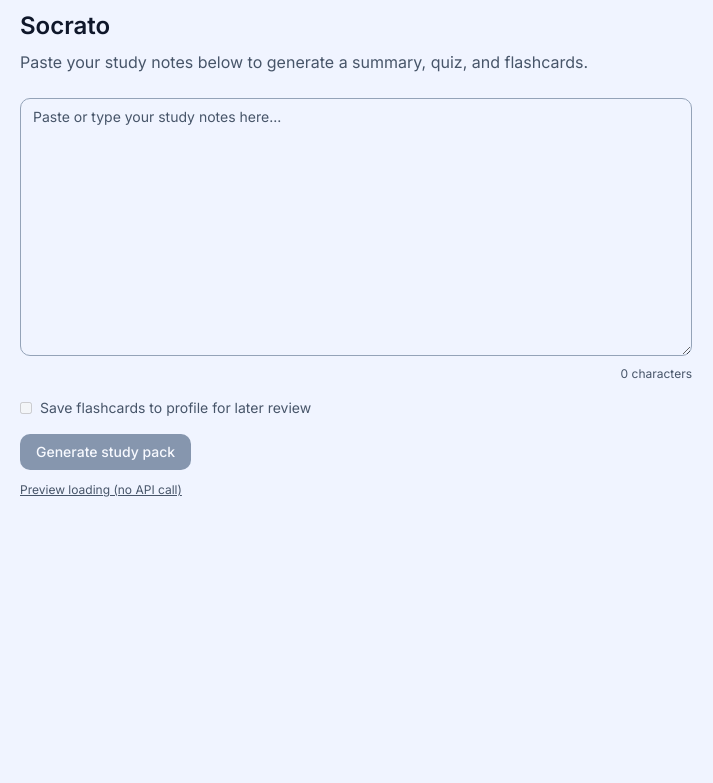
Scenario: Home page - no page crashes › submit again after failure without crashing
Type "Photosynthesis converts sunlight into glucose using chlorophyll." into the text box.
click(356, 227); type("Photosynthesis converts sunlight into glucose using chlorophyll.")  # box [20,98,692,356]
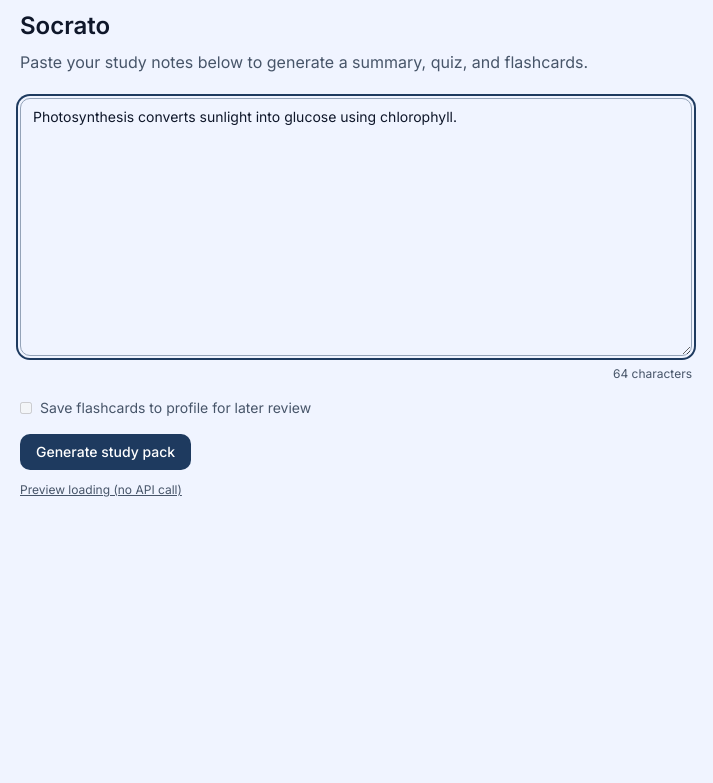
# first attempt - error
Click the button "Generate study pack".
click(106, 452)  # box [20,434,191,470]
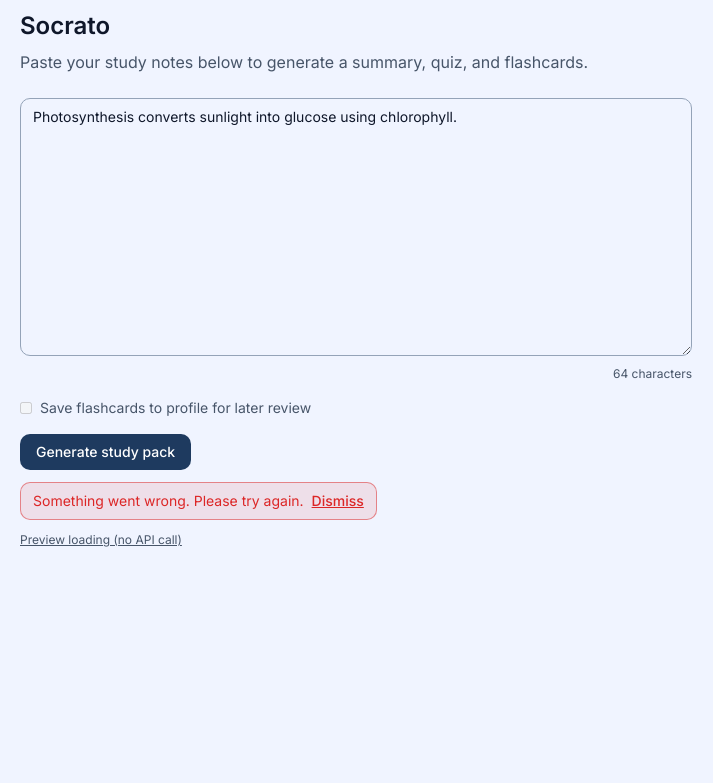
Expected: the message "Something went wrong. Please try again. Dismiss" is shown, [20,482,377,520]
# second attempt - generate study pack
Click the button "Generate study pack".
click(106, 452)  # box [20,434,191,470]
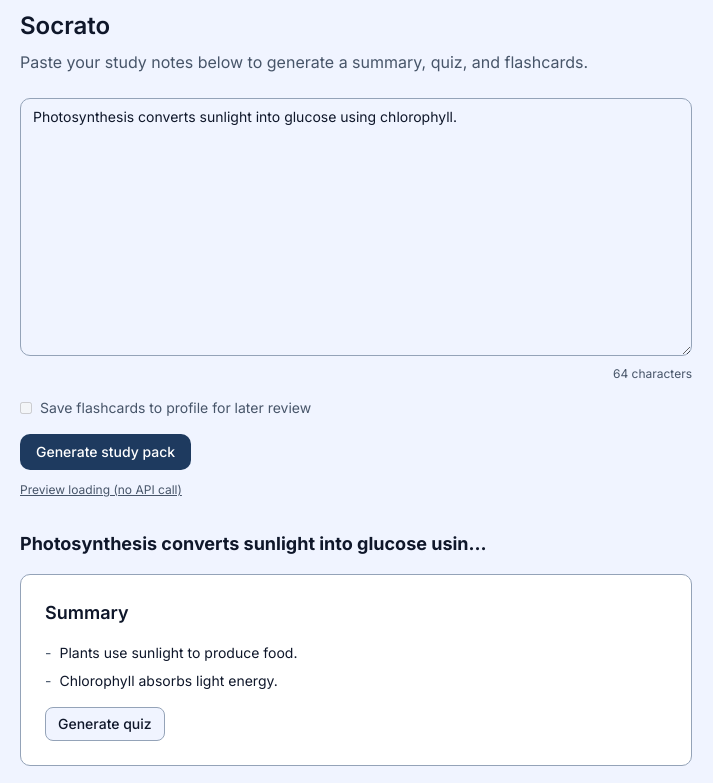
Expected: the message "Something went wrong. Please try again. Dismiss" is gone
Expected: the text "Plants use sunlight to produce food." is shown, [60,643,298,663]
